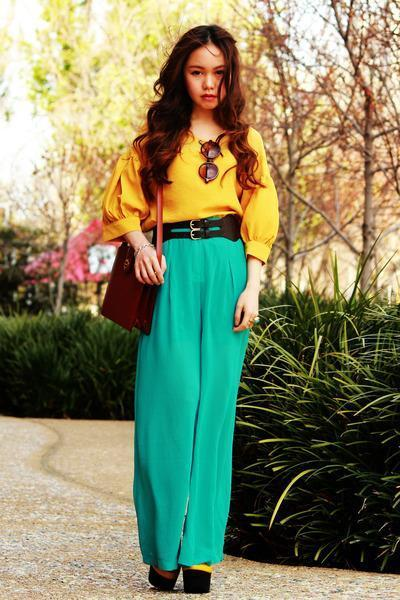bag: (100, 211, 163, 334)
pants: (133, 228, 279, 570)
shirt: (89, 127, 278, 265)
shoe: (148, 563, 215, 593)
sunglass: (199, 133, 224, 183)
